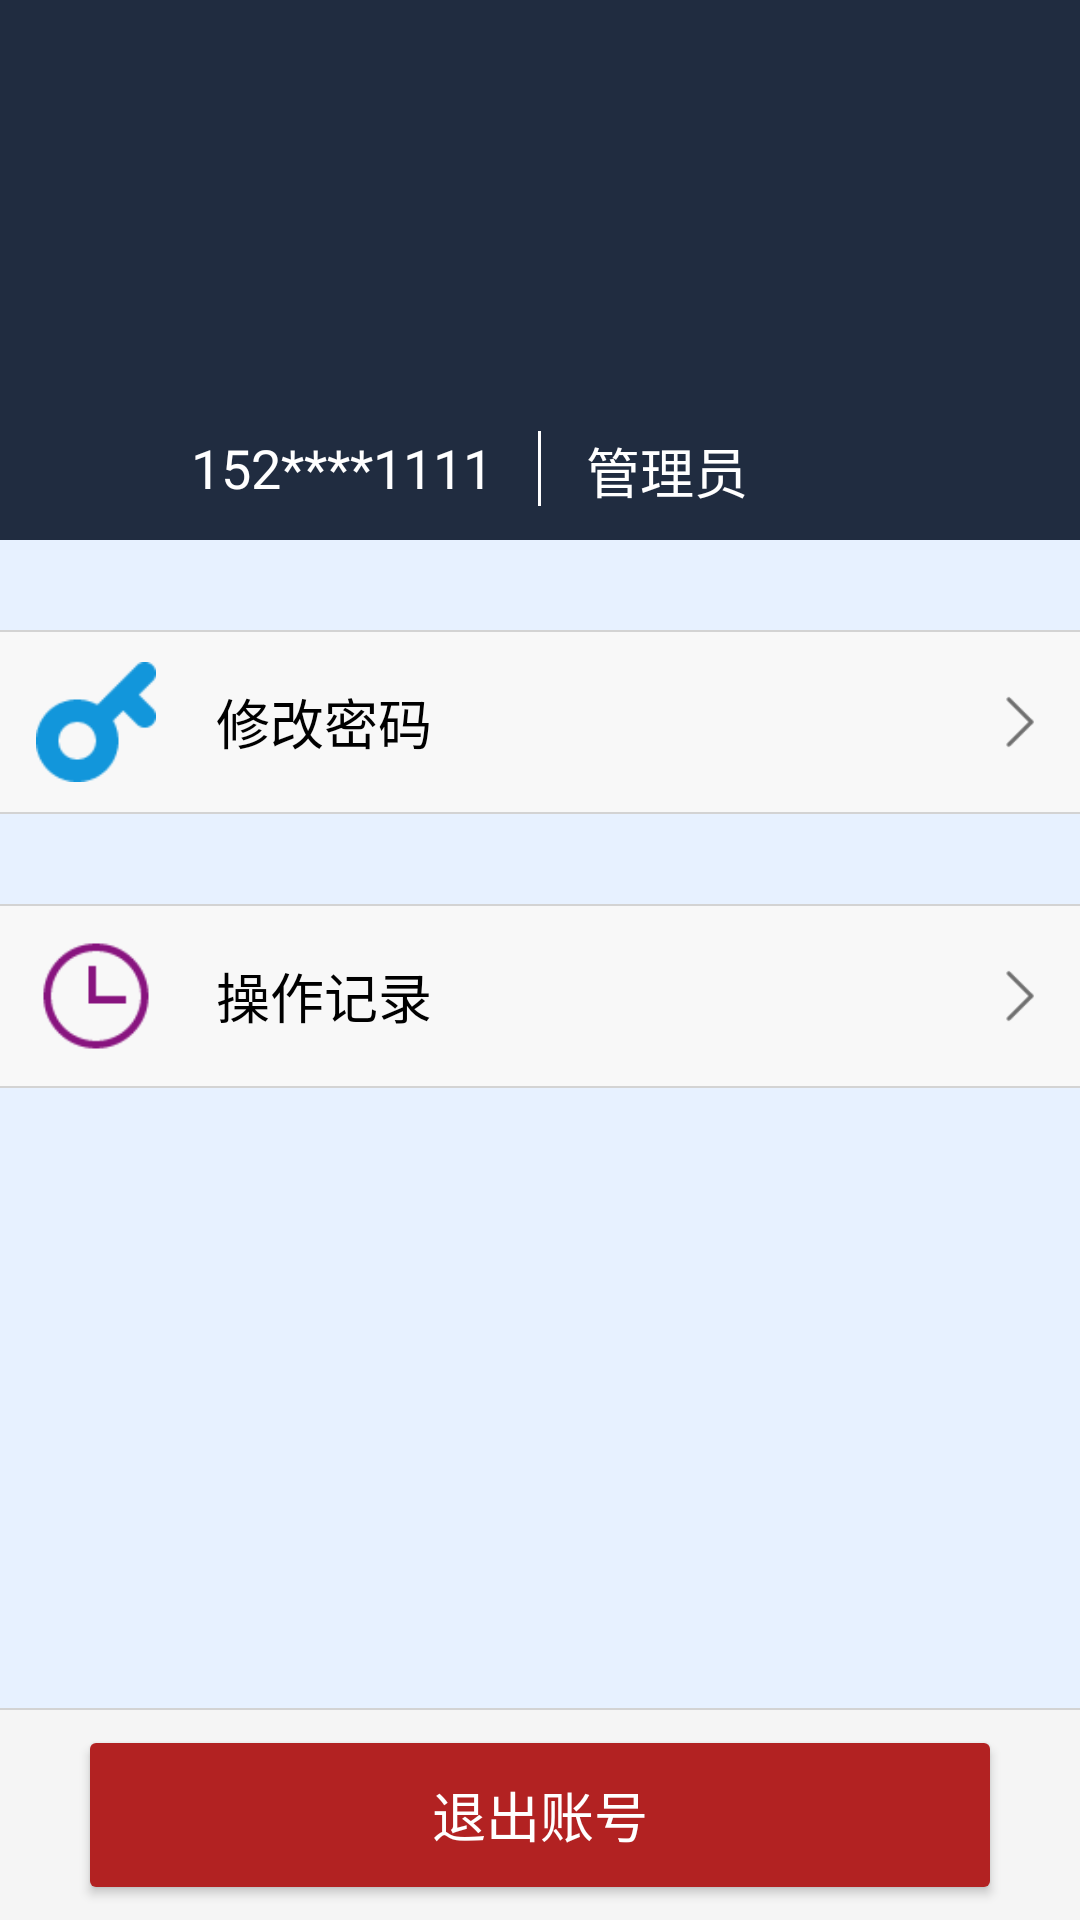

Point at icon controls on the screen. Image size 1080*1920, points as point (x, y).
arrow right: point (1020, 722), point (1020, 996)
modify password: point (96, 722)
record: point (96, 996)
